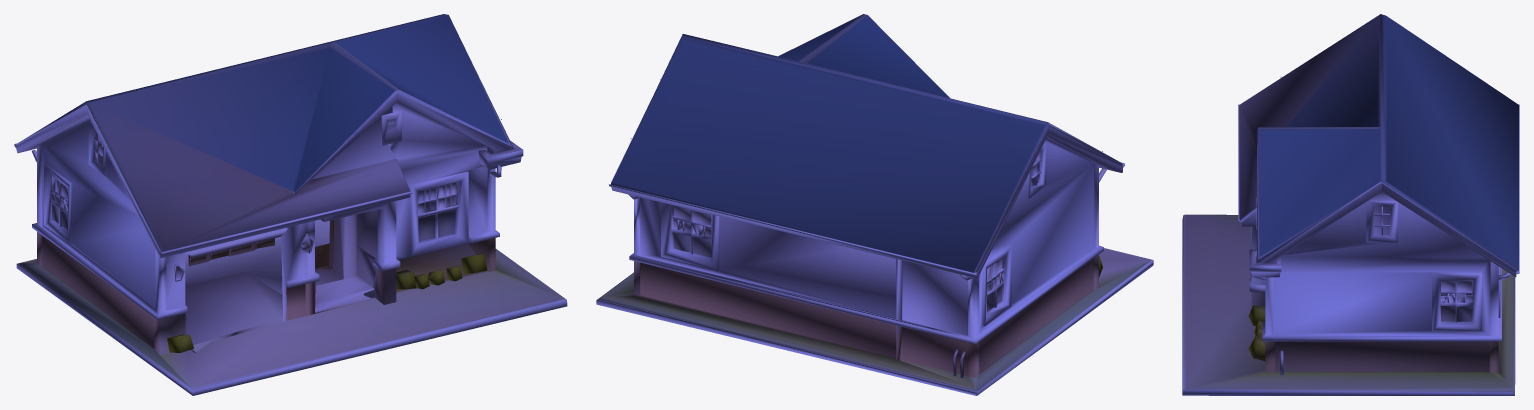
Rendered from model.progressive.glb.
3 renders of one model, left to right at view 1: azimuth 30°, elevation 25°; view 2: azimuth 150°, elevation 25°; view 3: azimuth 270°, elevation 25°, orthographic. The views are drawn at different scales.
Parts seen in each view (by area): view 1: material; view 2: material; view 3: material.
Boxes of the visible parts, box(x1,y1,x2,y2) form: material: box(14, 14, 567, 395); material: box(596, 14, 1153, 395); material: box(1182, 14, 1519, 395).
Size of the model in its own units: 1.9 by 1.06 by 1.55.
1 material, 1 textured.
